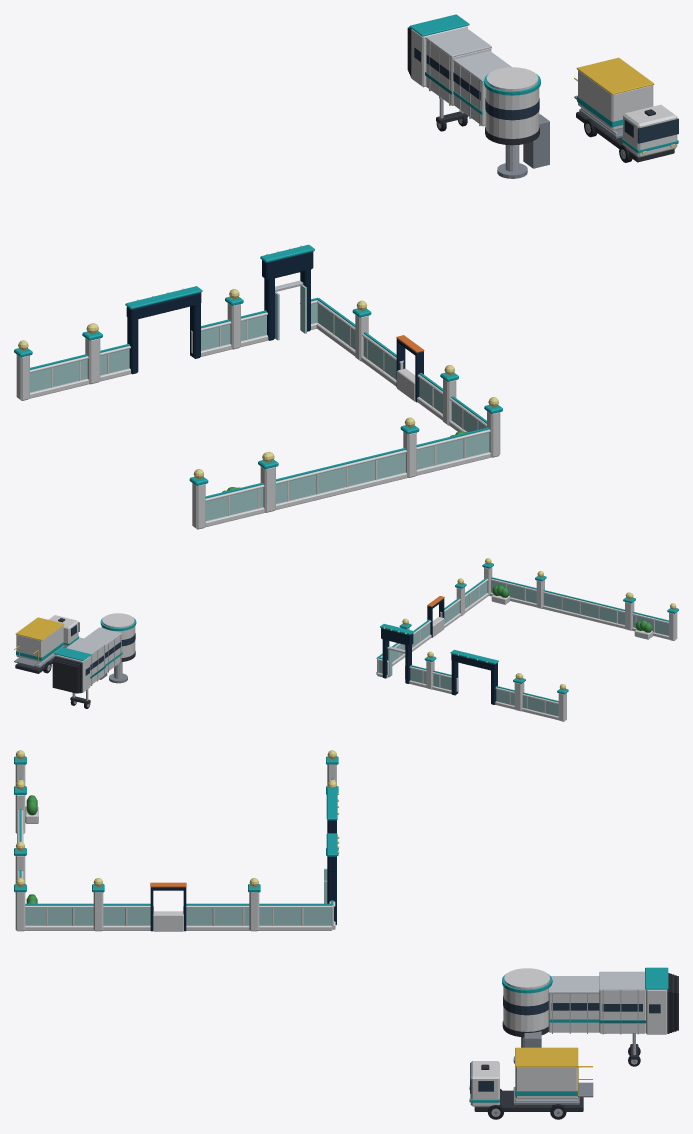
The model's file is skyport-wing.glb.
3 views of the same model, one above another, from view 1: azimuth 30°, elevation 25°; view 2: azimuth 150°, elevation 25°; view 3: azimuth 270°, elevation 25° (orthographic). The views are drawn at different scales.
Parts seen in each view (by area): view 1: sp_wing_mesh, sp_jetbridge_mesh, sp_catering_box_mesh, sp_catering_mesh, sp_jetbridge_outer_mesh, sp_jetbridge_cab_mesh; view 2: sp_wing_mesh, sp_jetbridge_mesh, sp_catering_box_mesh, sp_jetbridge_cab_mesh, sp_jetbridge_outer_mesh, sp_catering_mesh; view 3: sp_wing_mesh, sp_jetbridge_mesh, sp_catering_box_mesh, sp_jetbridge_outer_mesh, sp_catering_mesh, sp_jetbridge_cab_mesh.
Part boxes in pixels (x1,y1,x2,y2): sp_wing_mesh: (14, 244, 502, 529); sp_jetbridge_mesh: (453, 51, 549, 178); sp_catering_box_mesh: (574, 57, 654, 130); sp_catering_mesh: (576, 104, 678, 162); sp_jetbridge_outer_mesh: (425, 27, 491, 123); sp_jetbridge_cab_mesh: (407, 14, 469, 87); sp_wing_mesh: (376, 558, 678, 721); sp_jetbridge_mesh: (84, 613, 136, 683); sp_catering_box_mesh: (14, 617, 64, 666); sp_jetbridge_cab_mesh: (52, 647, 91, 693); sp_jetbridge_outer_mesh: (66, 637, 105, 704); sp_catering_mesh: (15, 615, 79, 673); sp_wing_mesh: (14, 750, 339, 931); sp_jetbridge_mesh: (502, 968, 605, 1063); sp_catering_box_mesh: (515, 1047, 593, 1098); sp_jetbridge_outer_mesh: (599, 971, 645, 1059); sp_catering_mesh: (469, 1061, 583, 1119); sp_jetbridge_cab_mesh: (645, 967, 678, 1034).
Size of the model in its own units: 38.95 by 4.75 by 34.12.
